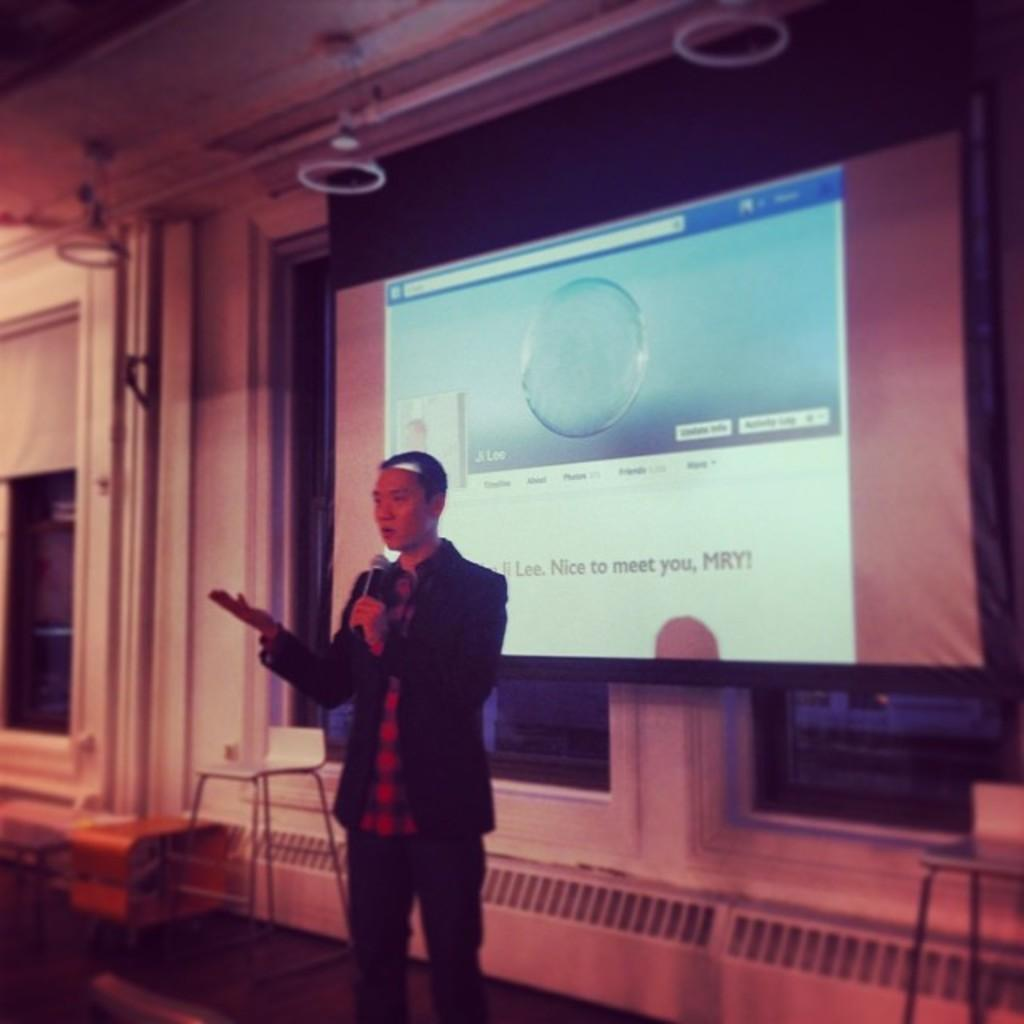Pessoa: (210, 451, 506, 1023)
